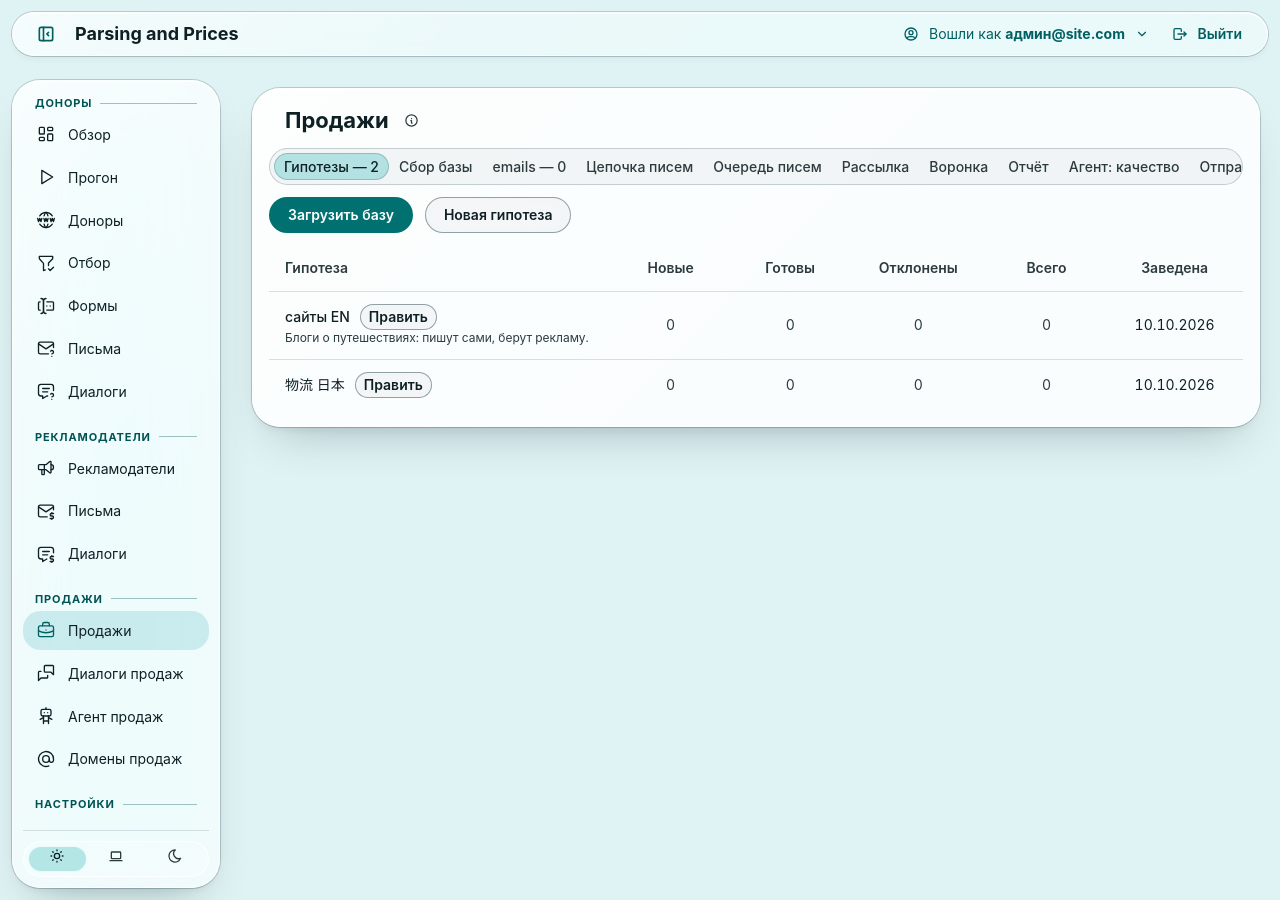
Test: правка гипотезы: окно в режиме правки › поправили одно имя — на сервер уходит только имя; список — с новым, окно закрыто
Click the button with aria-label "Править гипотезу «сайты EN»".
click(398, 317)  # box [360,304,437,330]
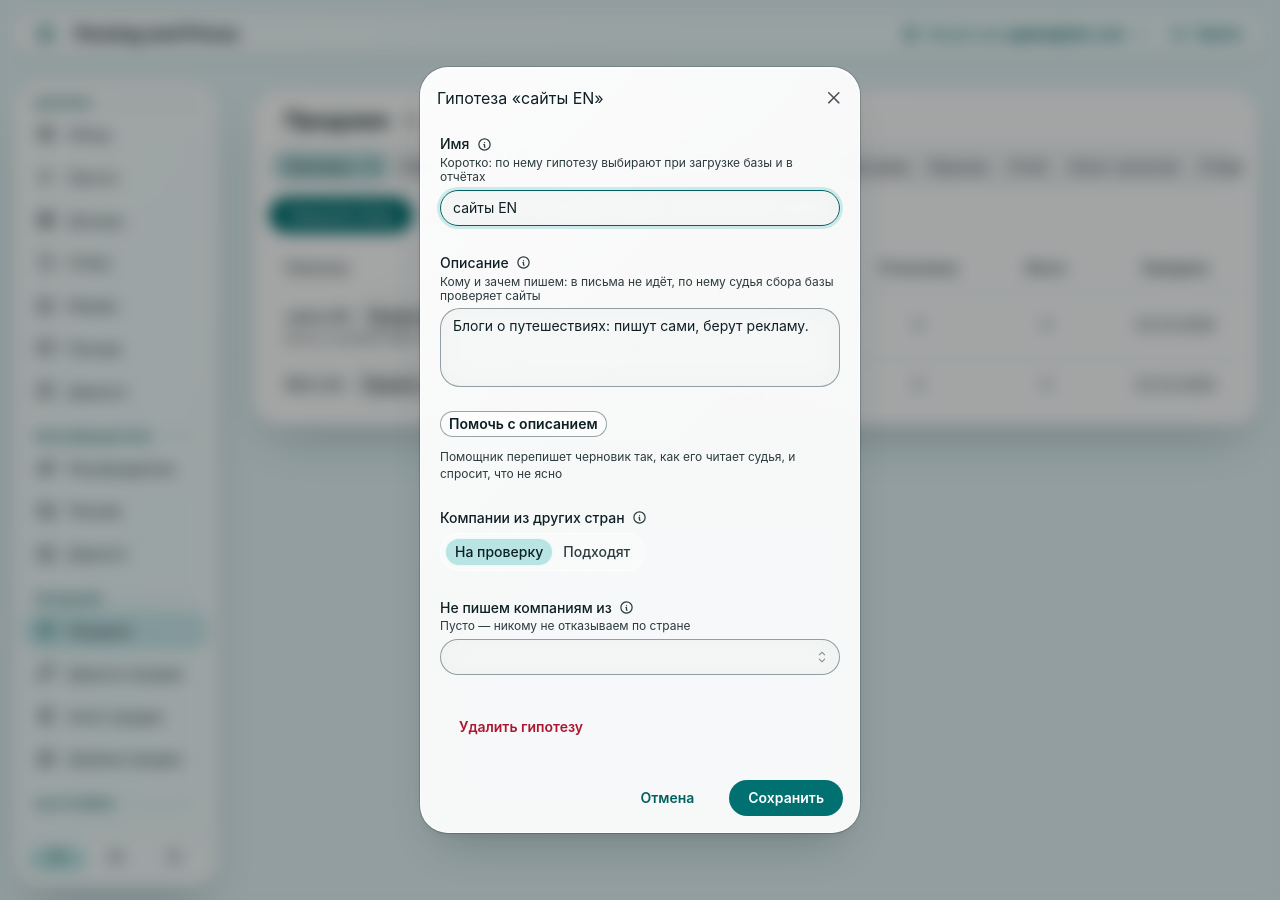
Clear the field labelled "Имя" at (640, 208), box [440,190,840,226]
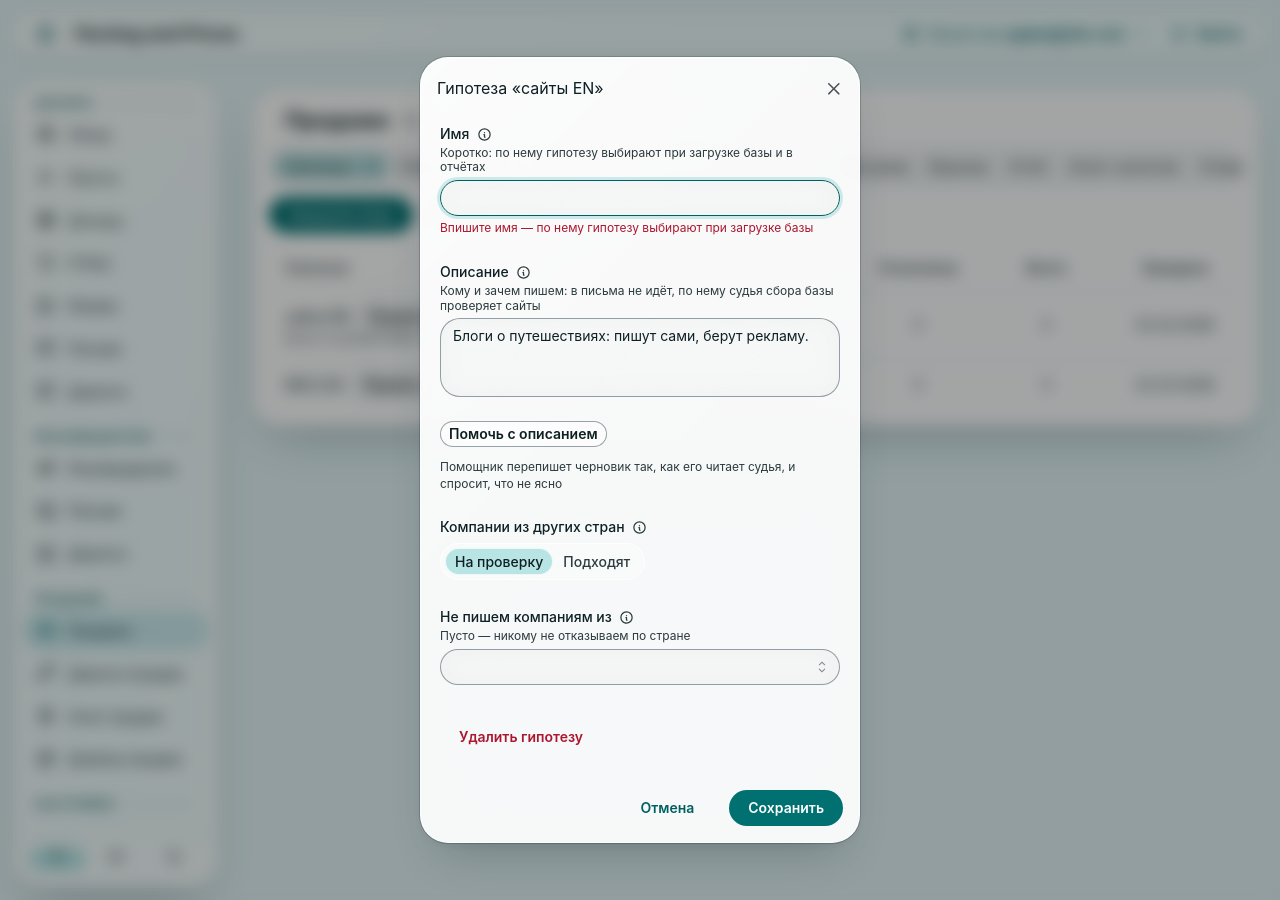
Type "блоги EN" into the field labelled "Имя".
click(640, 198); type("блоги EN")  # box [440,180,840,216]
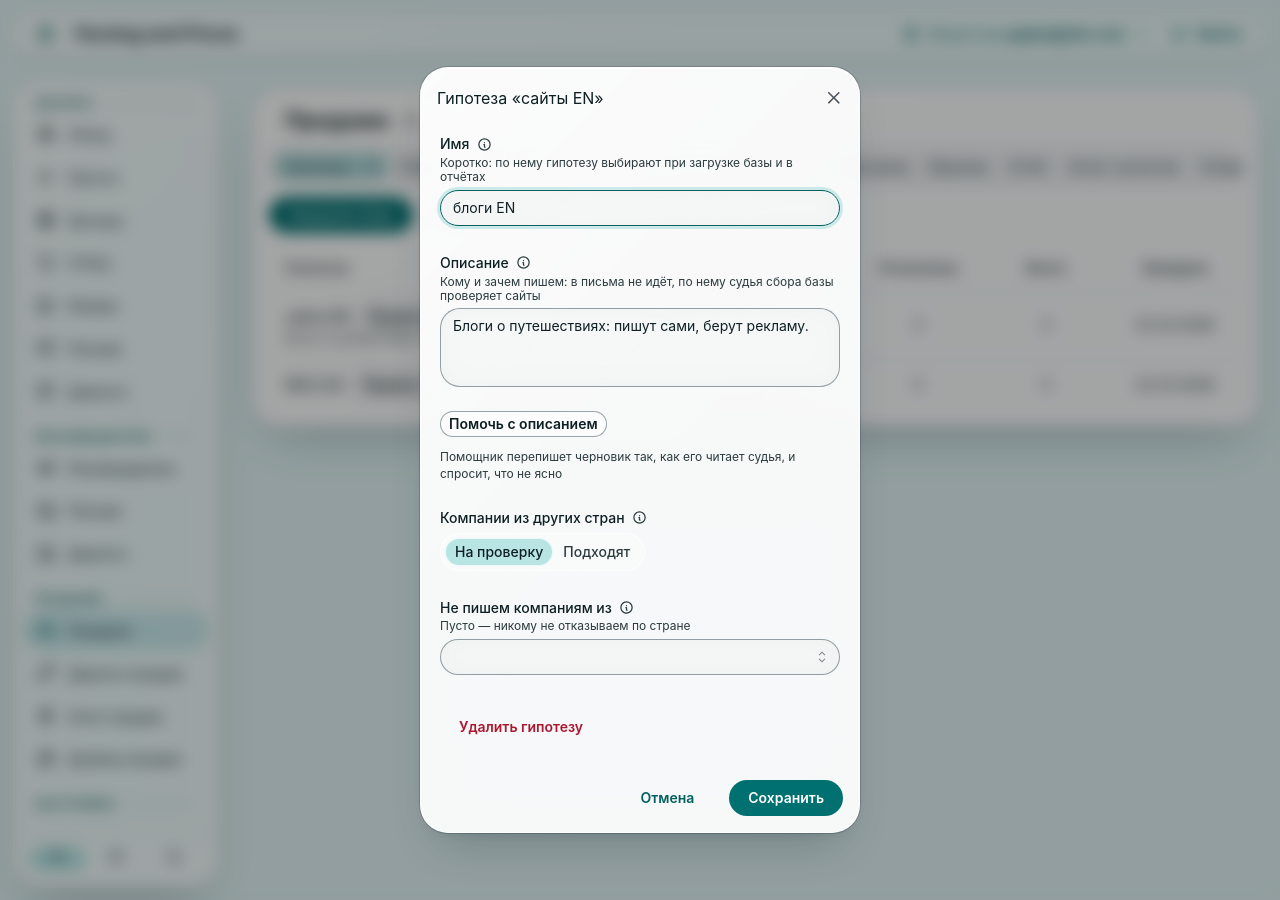
Click the button "Сохранить".
click(786, 798)  # box [729,780,843,816]
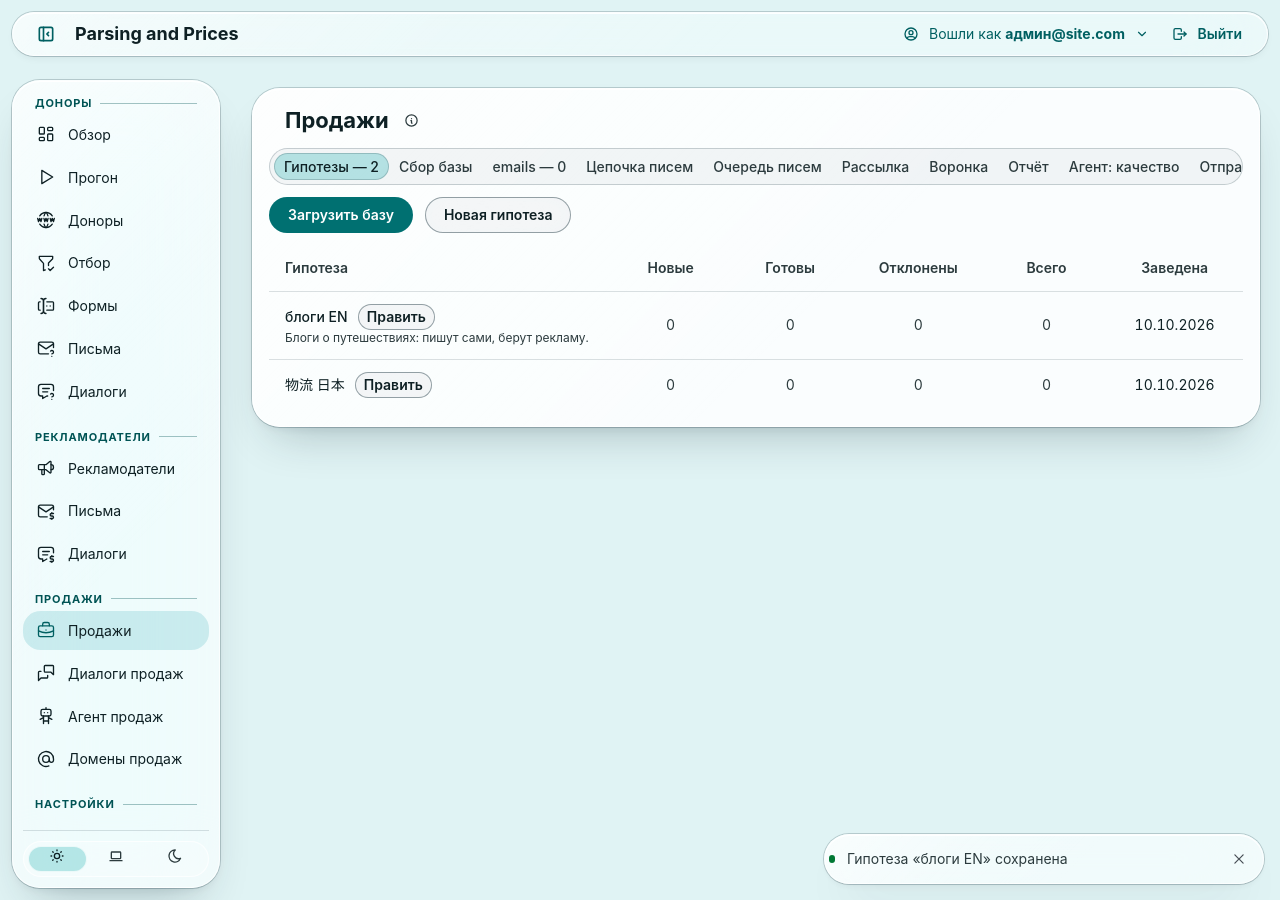
Now the button with aria-label "Править гипотезу «блоги EN»" is shown, box [358,304,435,330]
Now the dialog is gone
Now the text "Гипотеза «блоги EN» сохранена" is shown, box [847,850,1068,867]
